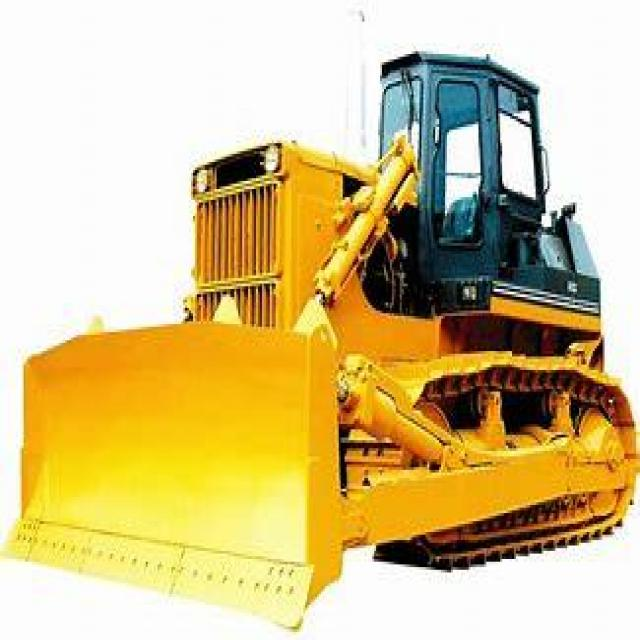Bulldozer: (4, 19, 638, 613)
